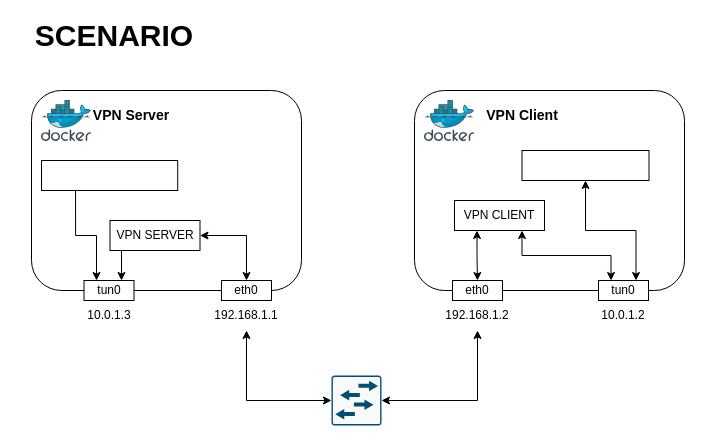
This 702x443 diagram has some shape labels left out. Each missing label, with the centre of its shape:
"nc -l -s 10.0.1.3 -p 3000" belongs at (x=109, y=175).
"nc 10.0.1.3 3000" belongs at (x=585, y=165).
